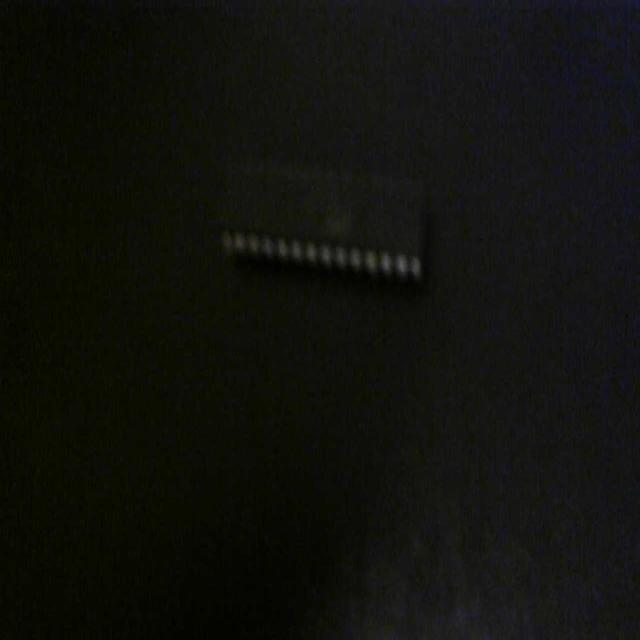atmega: (216, 144, 432, 295)
